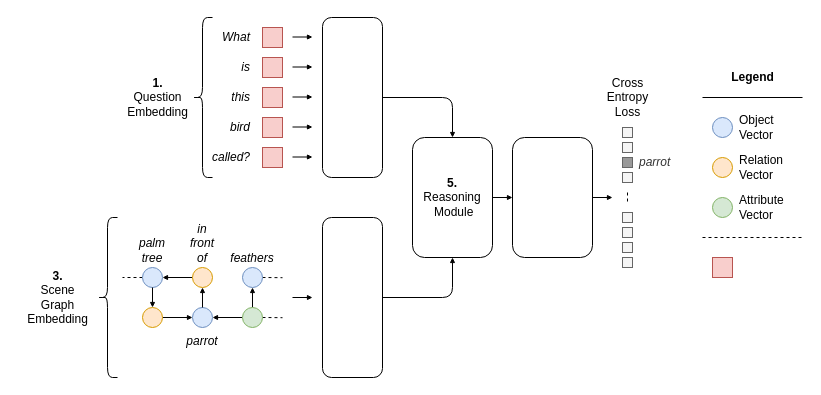
The diagram is 821 pixels wide and 395 high, and some of its shapes have lost their labels. Each missing label, with the centre of its shape:
2. Question Module: the point at 352,97
4. Scene Graph Module: the point at 352,297
6. Output Module: the point at 552,197
behind: the point at 152,317
white: the point at 252,317
Word Vector: the point at 722,267
